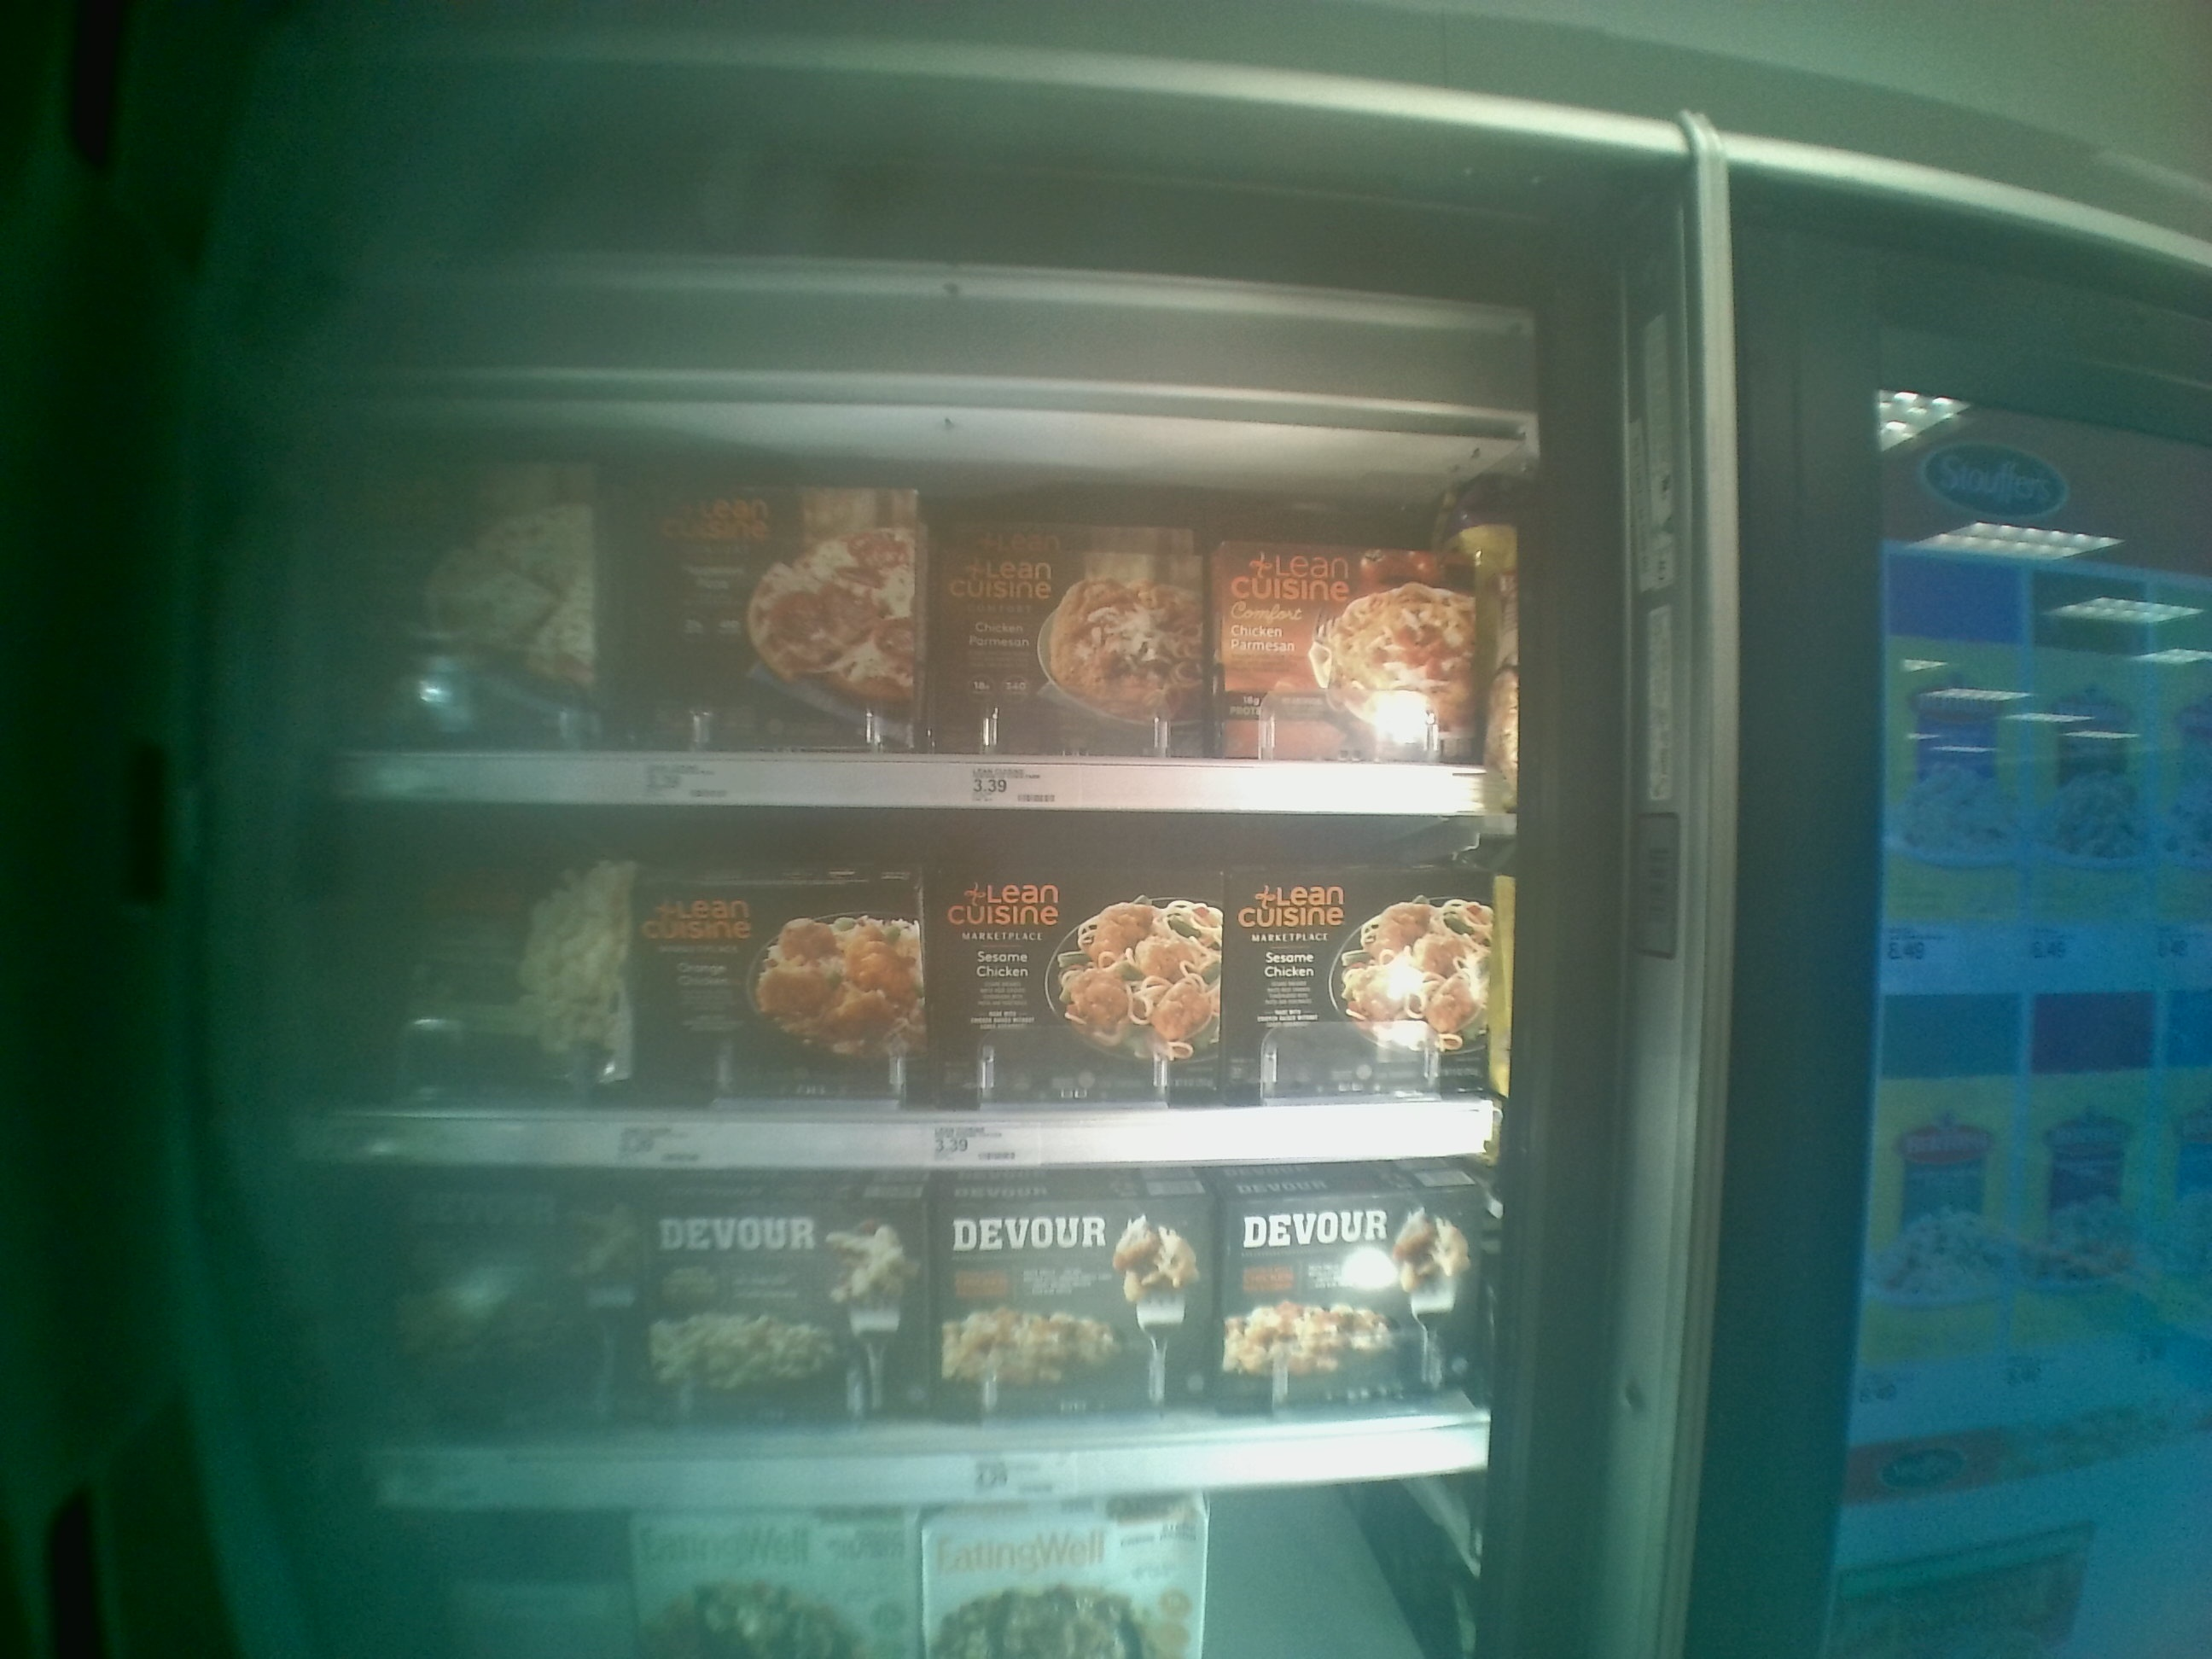shelf: (301, 422, 1505, 817), (296, 793, 1519, 1161), (308, 1154, 1510, 1499)
